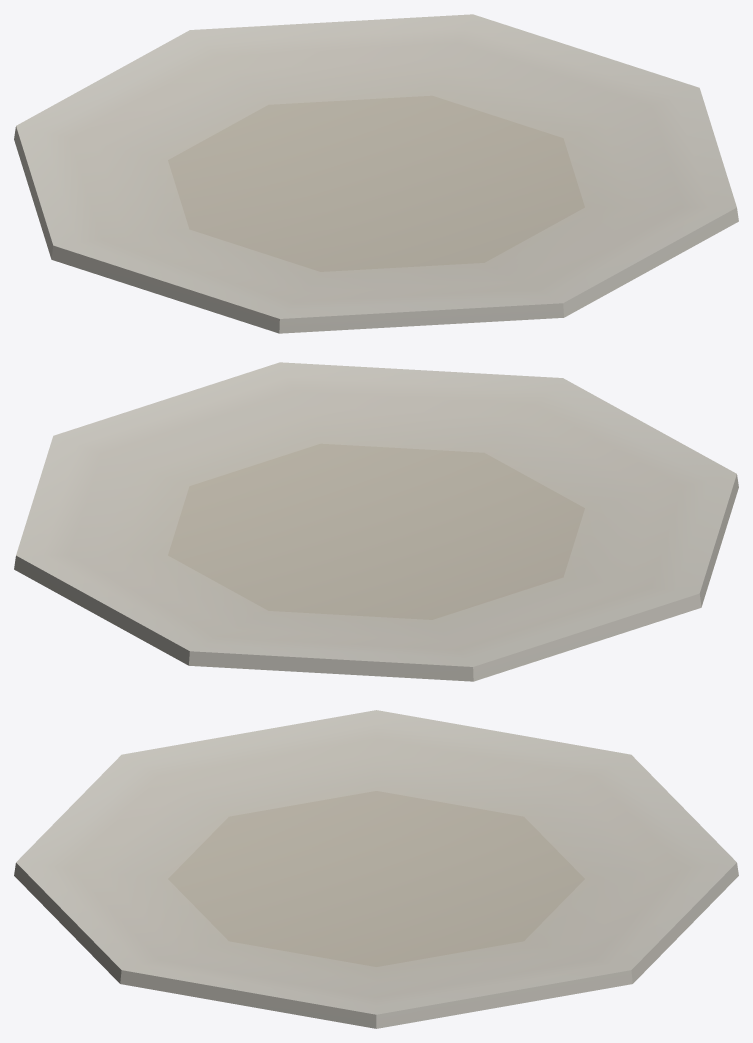
File: SM_Plate_01.fbx
3 renders of one model, top to bottom at view 1: azimuth 30°, elevation 25°; view 2: azimuth 150°, elevation 25°; view 3: azimuth 270°, elevation 25°, orthographic. The views are drawn at different scales.
Parts seen in each view (by area): view 1: SM_Plate_01; view 2: SM_Plate_01; view 3: SM_Plate_01.
Boxes of the visible parts, x1,y1,x2,y2 form: SM_Plate_01: (14, 14, 738, 333); SM_Plate_01: (14, 362, 738, 681); SM_Plate_01: (14, 710, 738, 1028).
Size of the model in its own units: 0.4633 by 0.0327 by 0.4633.
